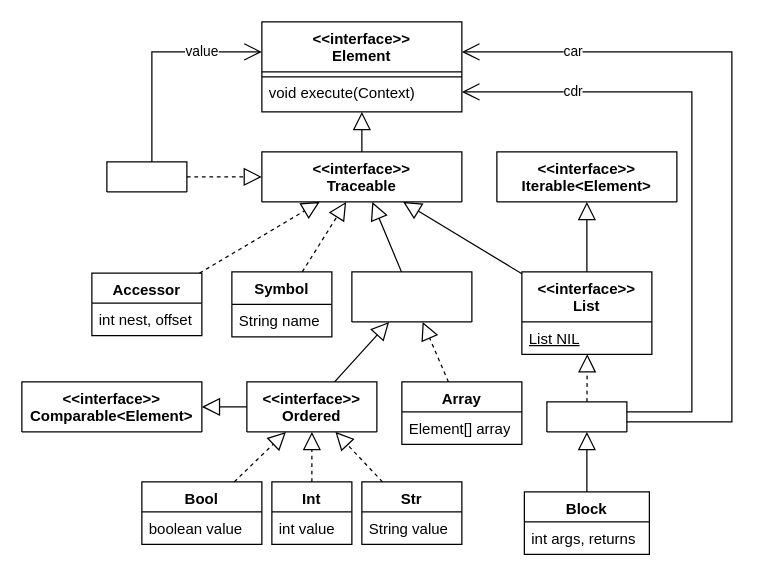
Image size: 771x580. Some labels were removed from this diagram. Each missing label, with the centre of its shape:
"<<interface>> Value" goes at (411,296).
"Cons" goes at (586,416).
"Quote" goes at (146,176).
